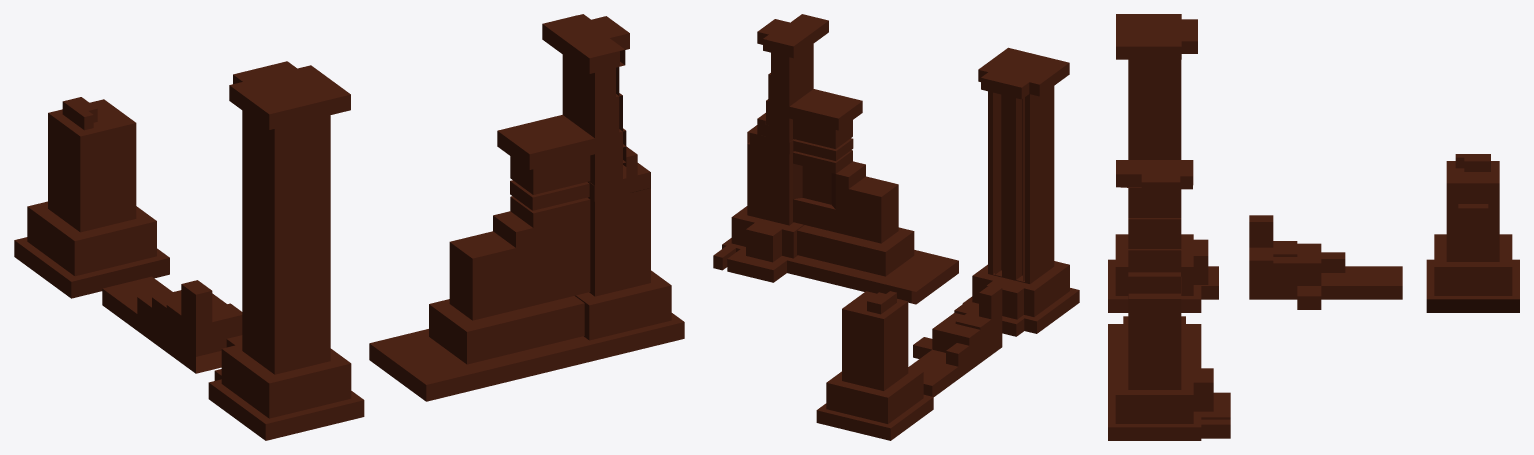
3 renders of one model, left to right at view 1: azimuth 30°, elevation 25°; view 2: azimuth 150°, elevation 25°; view 3: azimuth 270°, elevation 25°, orthographic. The views are drawn at different scales.
Visible parts, largest first — view 1: Ruins; view 2: Ruins; view 3: Ruins.
Part boxes in pixels (bbox=[...]): Ruins: bbox=[14, 14, 684, 440]; Ruins: bbox=[713, 14, 1079, 440]; Ruins: bbox=[1108, 14, 1519, 440].
Bounding box in the file's own units: 1.45 × 1.06 × 1.51.
